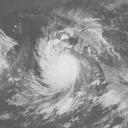cyclone: (32, 37, 81, 99)
